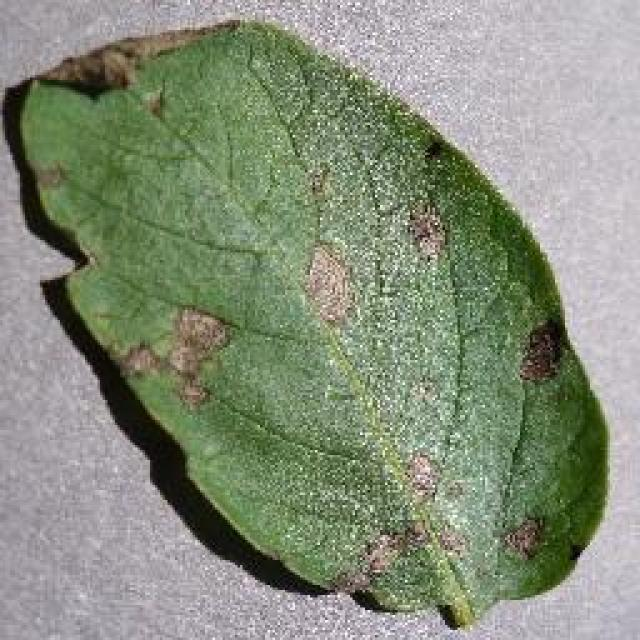Potato___Early_blight: (8, 0, 622, 640)
